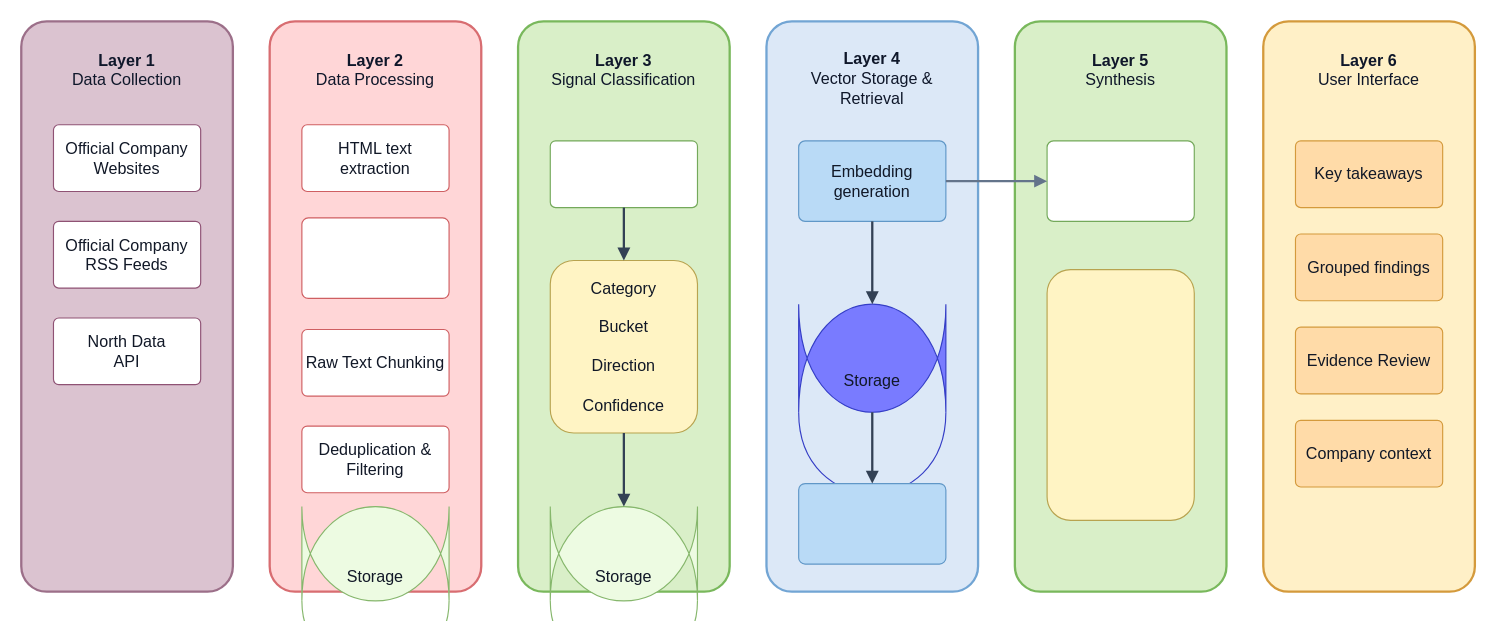
Some shapes in this 1495 by 621 pixel diagram are drawn without their labels. The shapes that lost their labels are listed below. From the top down, each one's box as (x1, y1, x2, y2) in pixels, then its label:
(549, 140, 697, 208): LLM 1 analysis
(1046, 140, 1194, 221): LLM 2 analysis over retrieved signals
(301, 217, 449, 298): Parsing and Segmentation of PDFs
(1046, 269, 1194, 520): Pattern Recognition Top Opportunities Top Risks Recommended Actions
(798, 482, 946, 564): Signal Retrieval
